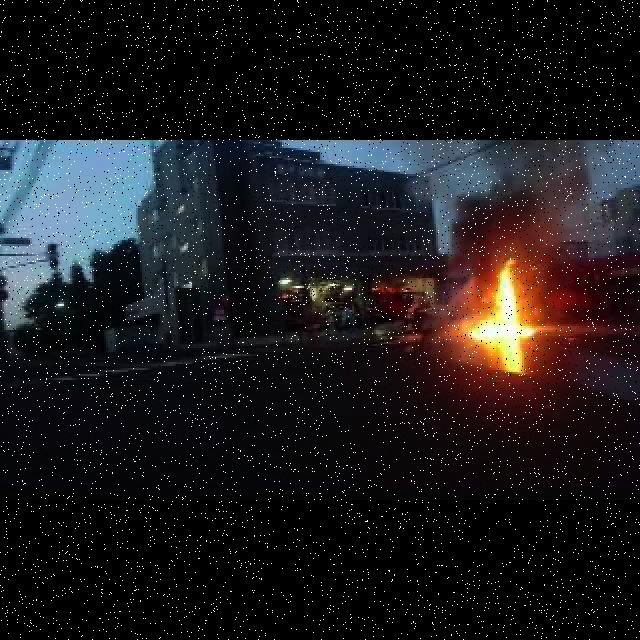fire: (472, 263, 536, 352)
smoke: (410, 140, 603, 268)
